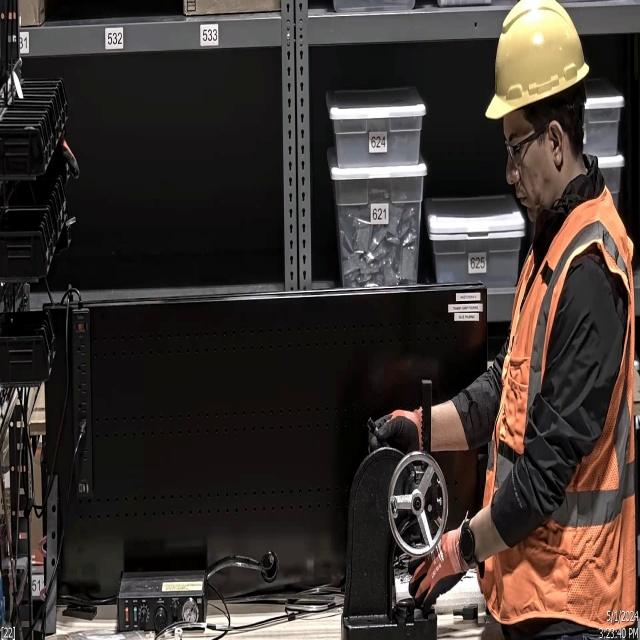gloves: (404, 522, 462, 622)
